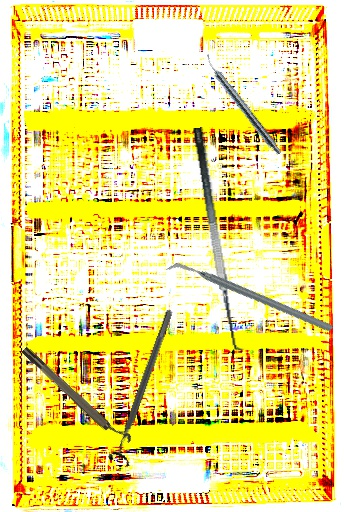Chopper: (165, 212, 334, 383)
Fixation Ring: (19, 340, 134, 452), (106, 306, 182, 468)
Handpiece: (200, 52, 285, 157)
Spatula Surgical: (190, 124, 254, 353)
